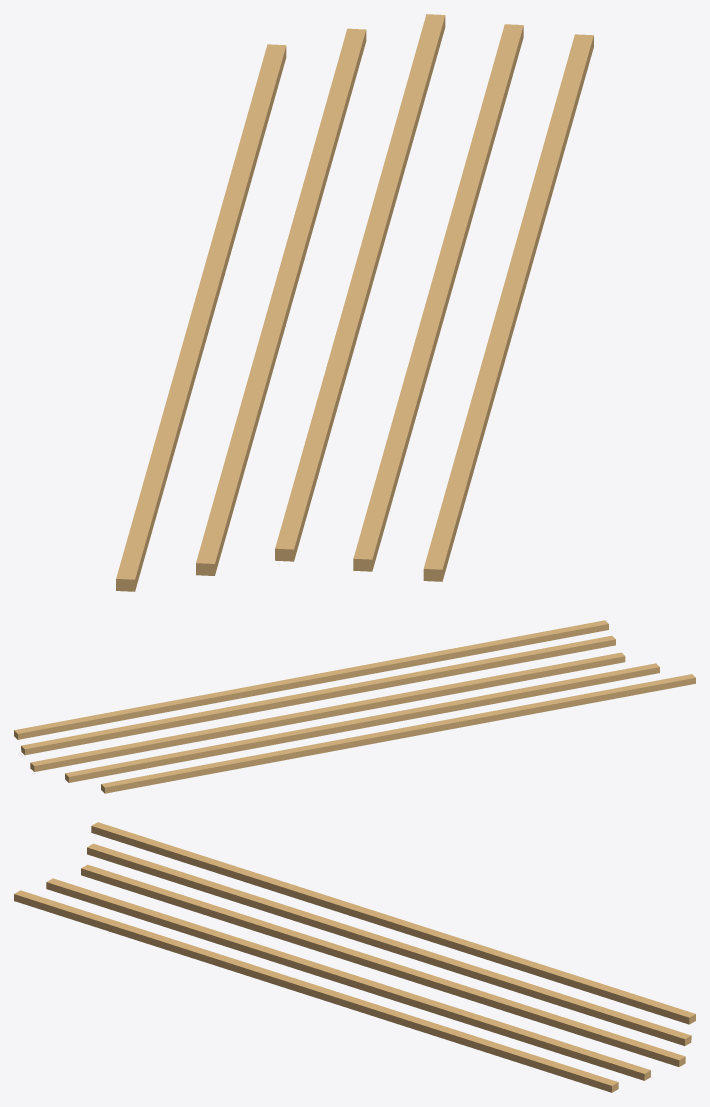
Rendered from arrow_shafts.glb.
3 views of the same model, one above another, from view 1: azimuth 30°, elevation 25°; view 2: azimuth 150°, elevation 25°; view 3: azimuth 270°, elevation 25° (orthographic). The views are drawn at different scales.
Visible parts, largest first — view 1: arrow_shafts; view 2: arrow_shafts; view 3: arrow_shafts.
Boxes of the visible parts, x1,y1,x2,y2 form: arrow_shafts: (116, 14, 593, 591); arrow_shafts: (14, 620, 695, 793); arrow_shafts: (14, 822, 695, 1092).
Bounding box in the file's own units: 0.3675 × 0.00665 × 0.4063.
